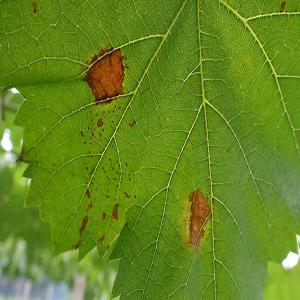Folha: (0, 0, 299, 298)
Fungo: (83, 44, 126, 104), (182, 188, 212, 252), (74, 215, 88, 249), (78, 214, 88, 236), (111, 202, 119, 220), (279, 0, 286, 12), (141, 86, 149, 96), (128, 119, 136, 127), (97, 117, 103, 127), (124, 190, 130, 198), (32, 2, 36, 13), (102, 210, 106, 220), (80, 130, 84, 137)
